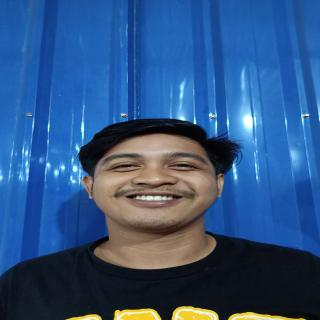Senang: (84, 132, 235, 234)
